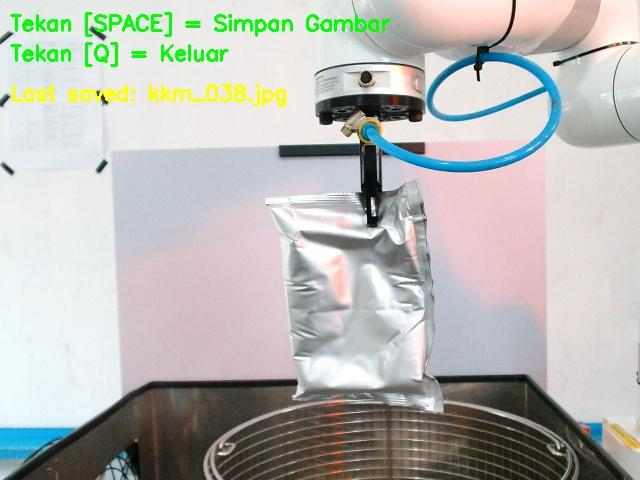retort-pouch: (264, 179, 442, 409)
